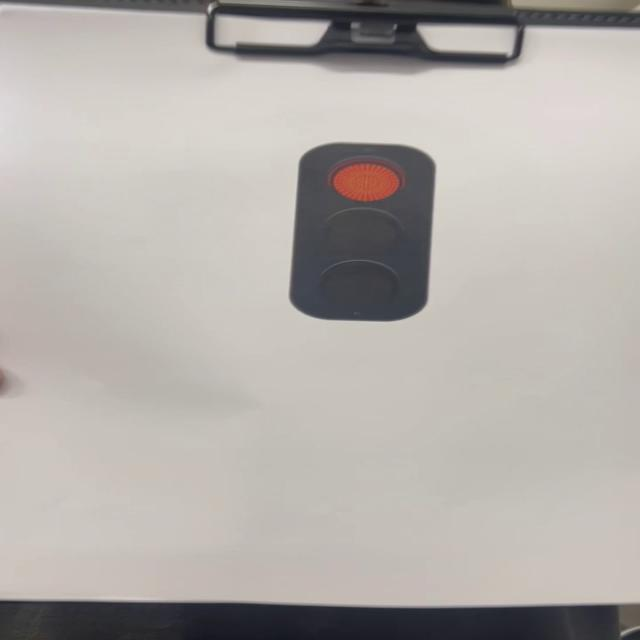red: (287, 139, 442, 324)
